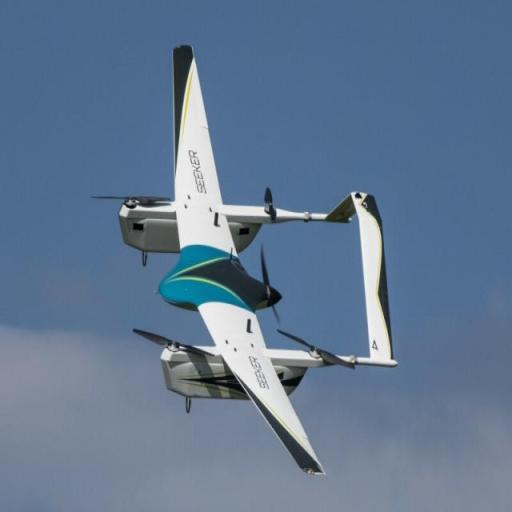uav: (102, 38, 408, 479)
